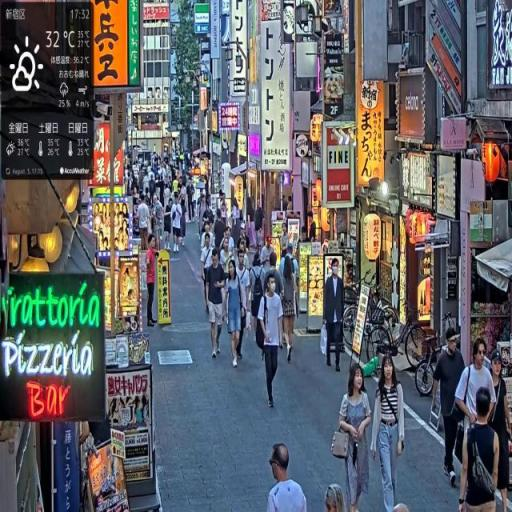person: (333, 361, 374, 512), (432, 327, 468, 490), (458, 386, 503, 512), (374, 355, 407, 511), (257, 272, 288, 413), (486, 349, 512, 510), (323, 260, 347, 375), (268, 445, 308, 512), (224, 256, 247, 368), (205, 249, 228, 361), (279, 248, 301, 360), (145, 233, 159, 331), (201, 233, 214, 316), (171, 195, 185, 256)
